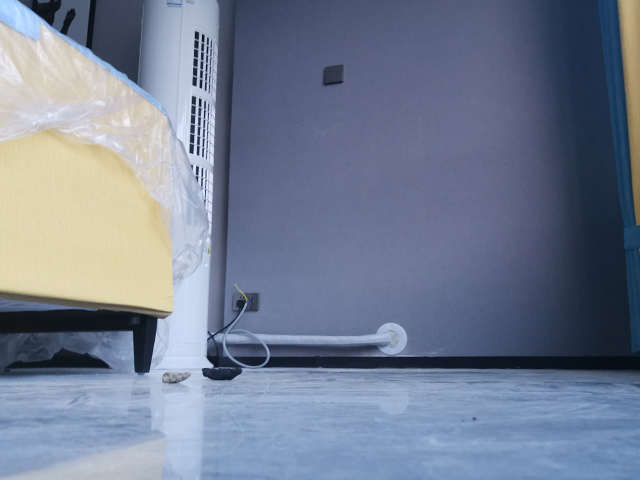curtain: (596, 1, 640, 359)
feces: (200, 366, 244, 382), (160, 371, 192, 385)
sofa: (1, 1, 180, 376)
wire: (206, 283, 273, 370)
